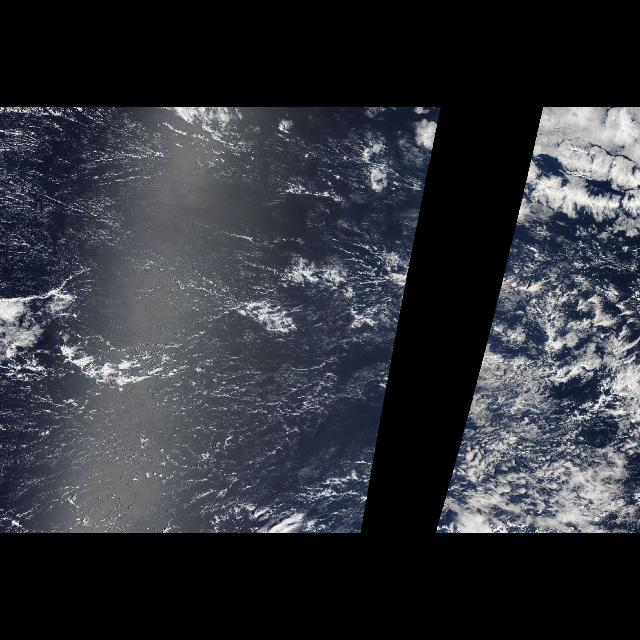Fish: (2, 248, 412, 394)
Sugar: (2, 118, 388, 530)
